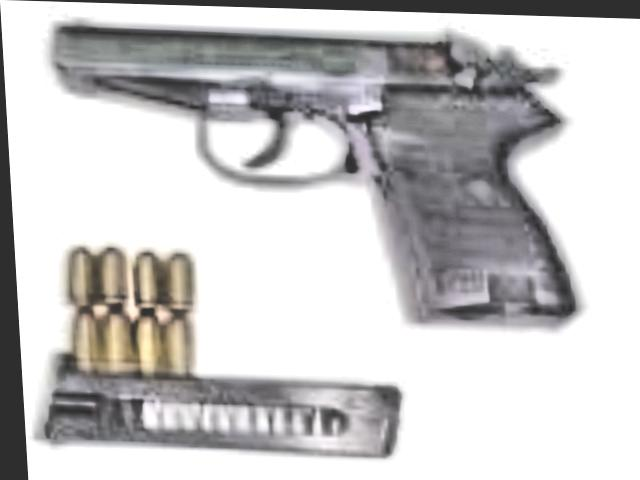pistol: (49, 13, 583, 325)
